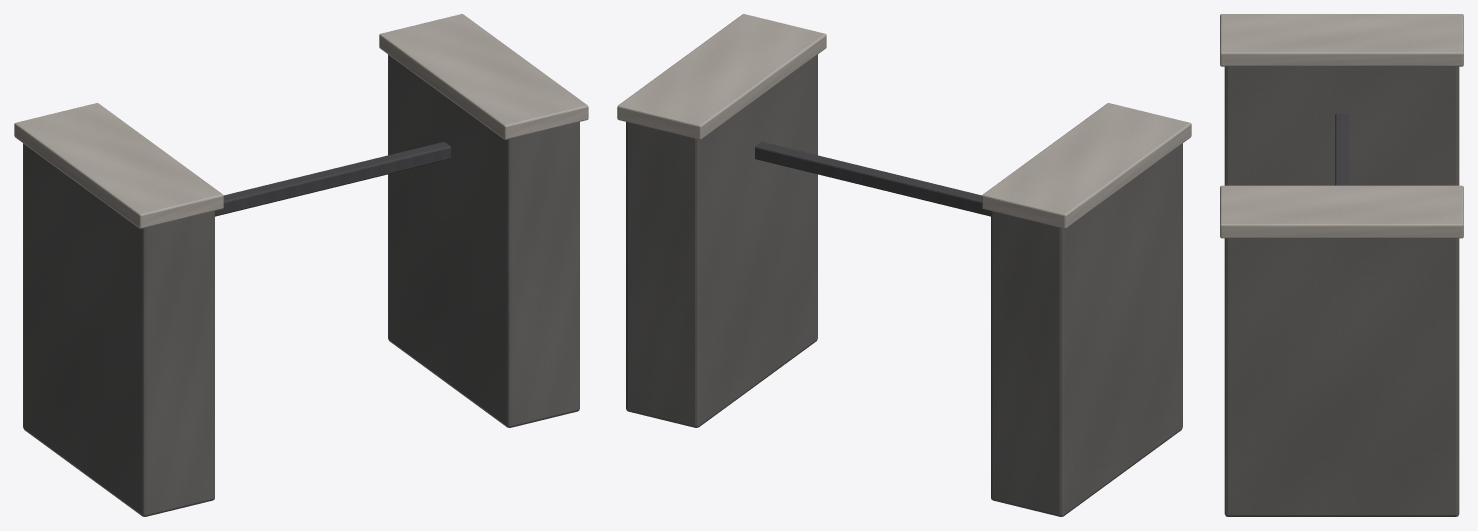
The model's file is turnstile.glb.
3 views of the same model, side by side, from view 1: azimuth 30°, elevation 25°; view 2: azimuth 150°, elevation 25°; view 3: azimuth 270°, elevation 25° (orthographic). The views are drawn at different scales.
Visible parts, largest first — view 1: pedestal.001, pedestal.002, top, top.001, barrier; view 2: pedestal.001, pedestal.002, top, top.001, barrier; view 3: pedestal.002, pedestal.001, top.001, top, barrier.
Part boxes in pixels (x1,y1,x2,y2): pedestal.001: (23,143,214,516); pedestal.002: (388,54,579,427); top: (14,103,223,228); top.001: (379,14,588,139); barrier: (215,141,450,216); pedestal.001: (991,143,1182,516); pedestal.002: (626,54,817,427); top: (982,103,1191,228); top.001: (617,14,826,139); barrier: (755,141,990,216); pedestal.002: (1224,238,1459,516); pedestal.001: (1224,66,1459,185); top.001: (1220,185,1463,238); top: (1220,14,1463,66); barrier: (1335,113,1348,185).
Size of the model in its own units: 1.6 by 1.04 by 0.78.
3 materials, 3 textured.
